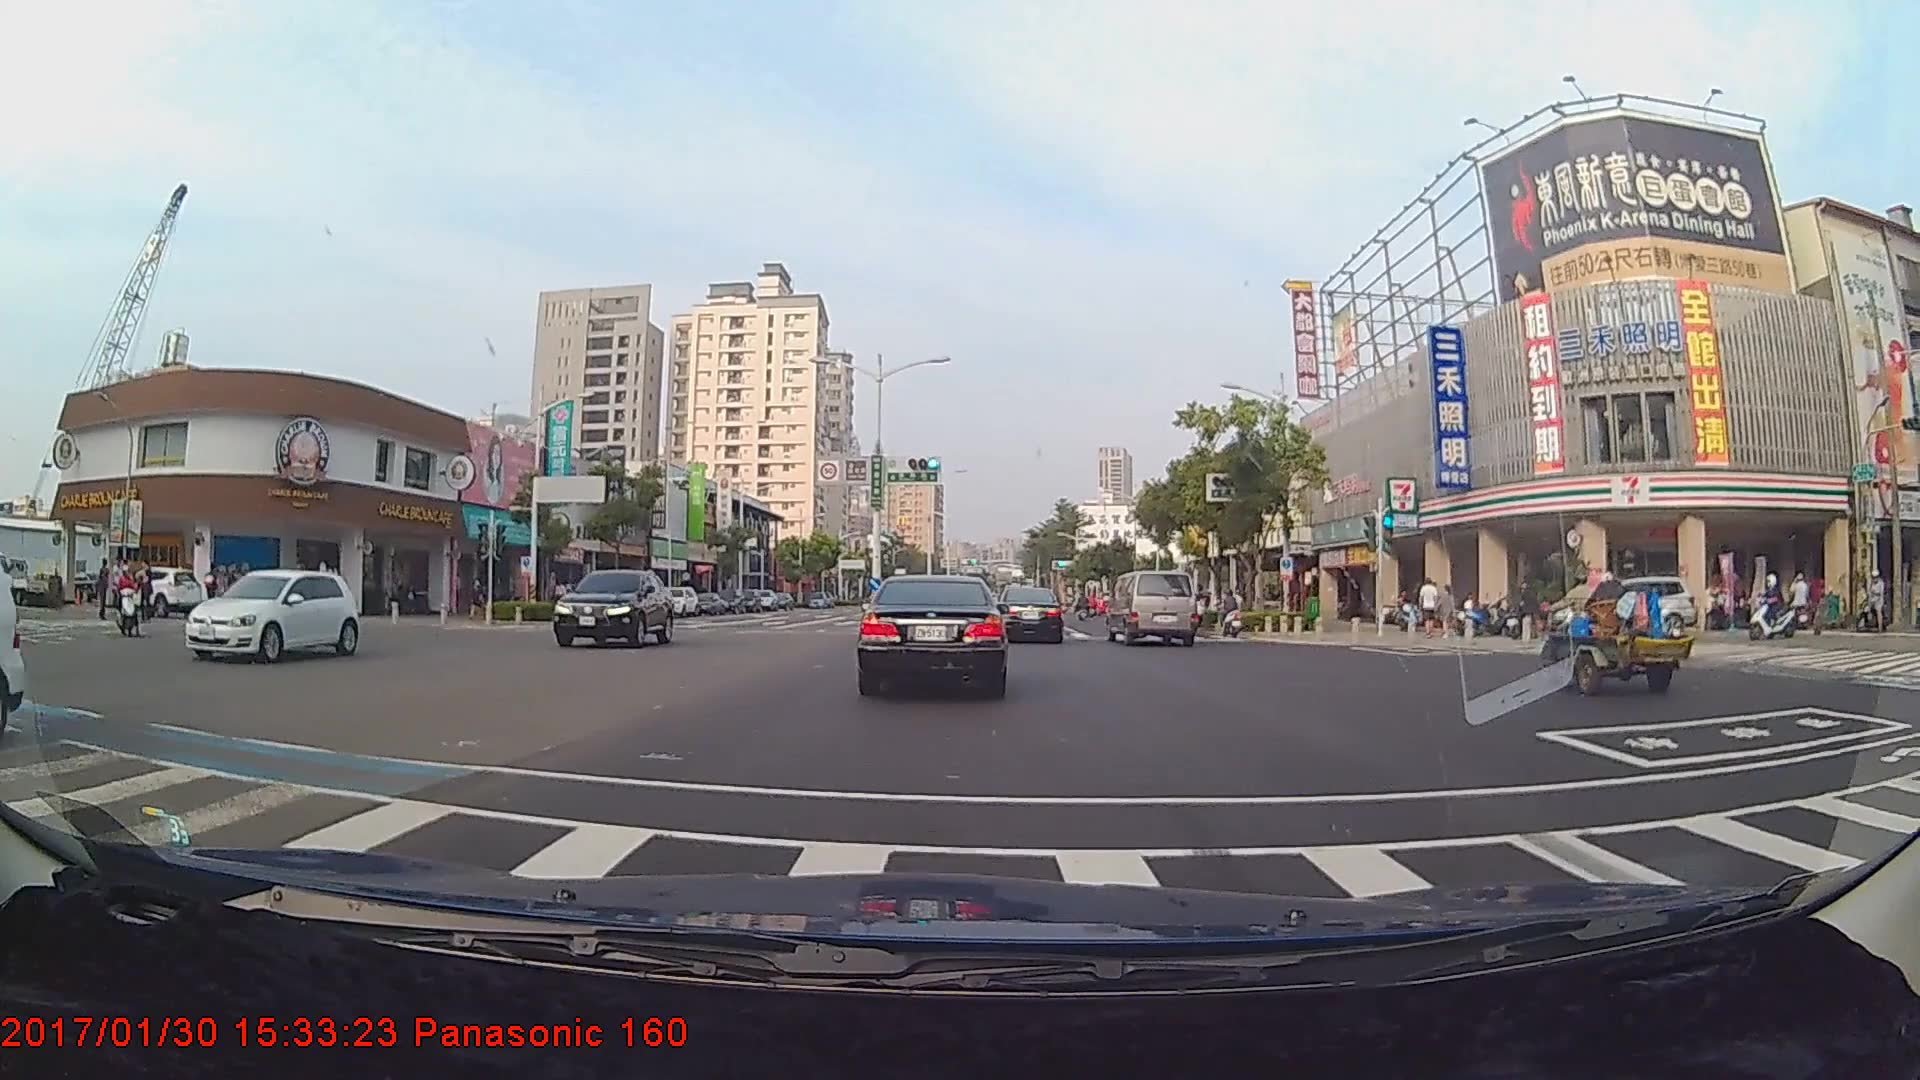pedestrian: (1418, 577, 1441, 638), (467, 573, 489, 623)
rider: (1745, 570, 1805, 645), (107, 560, 150, 638), (1216, 586, 1255, 642)
vehicle: (859, 570, 1008, 696), (182, 566, 362, 666), (1545, 574, 1696, 640), (554, 567, 675, 648), (1109, 570, 1196, 647), (996, 585, 1064, 643)
